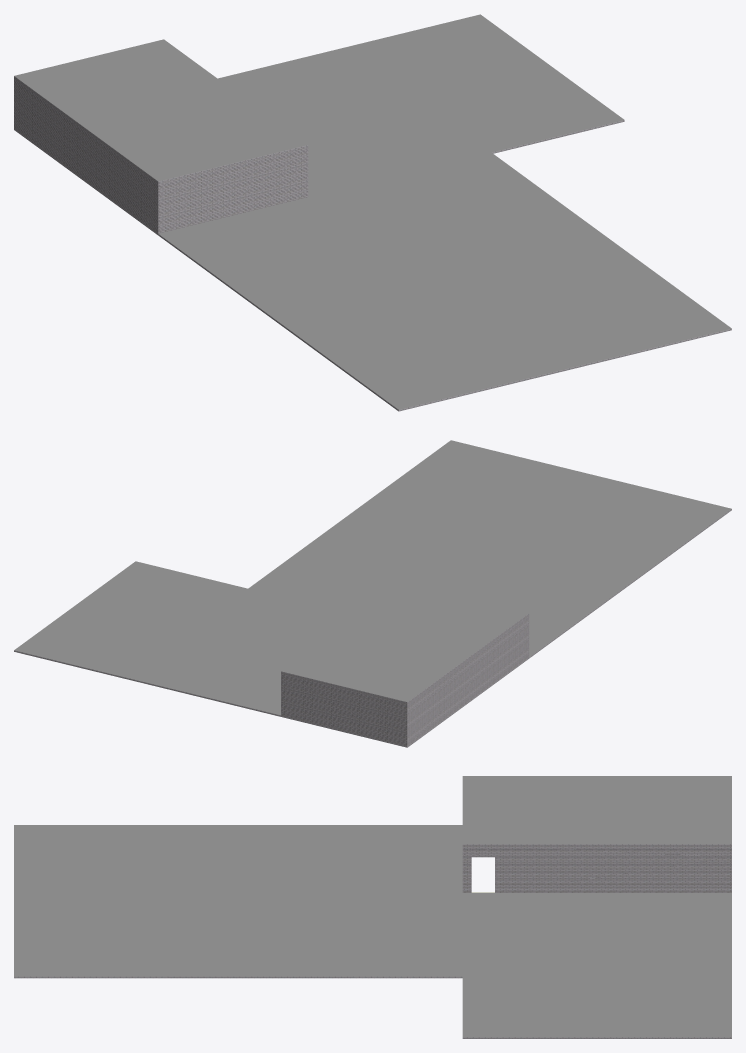
Rendered from Building001_Top_Floor.FBX.
3 views of the same model, one above another, from view 1: azimuth 30°, elevation 25°; view 2: azimuth 150°, elevation 25°; view 3: azimuth 270°, elevation 25° (orthographic). The views are drawn at different scales.
Parts seen in each view (by area): view 1: Top Floor; view 2: Top Floor; view 3: Top Floor.
Part boxes in pixels (x1=…): Top Floor: x1=14, y1=14, x2=731, y2=411; Top Floor: x1=14, y1=440, x2=731, y2=747; Top Floor: x1=14, y1=776, x2=731, y2=1038.
Bounding box in the file's own units: 1102 × 122 × 1575.
